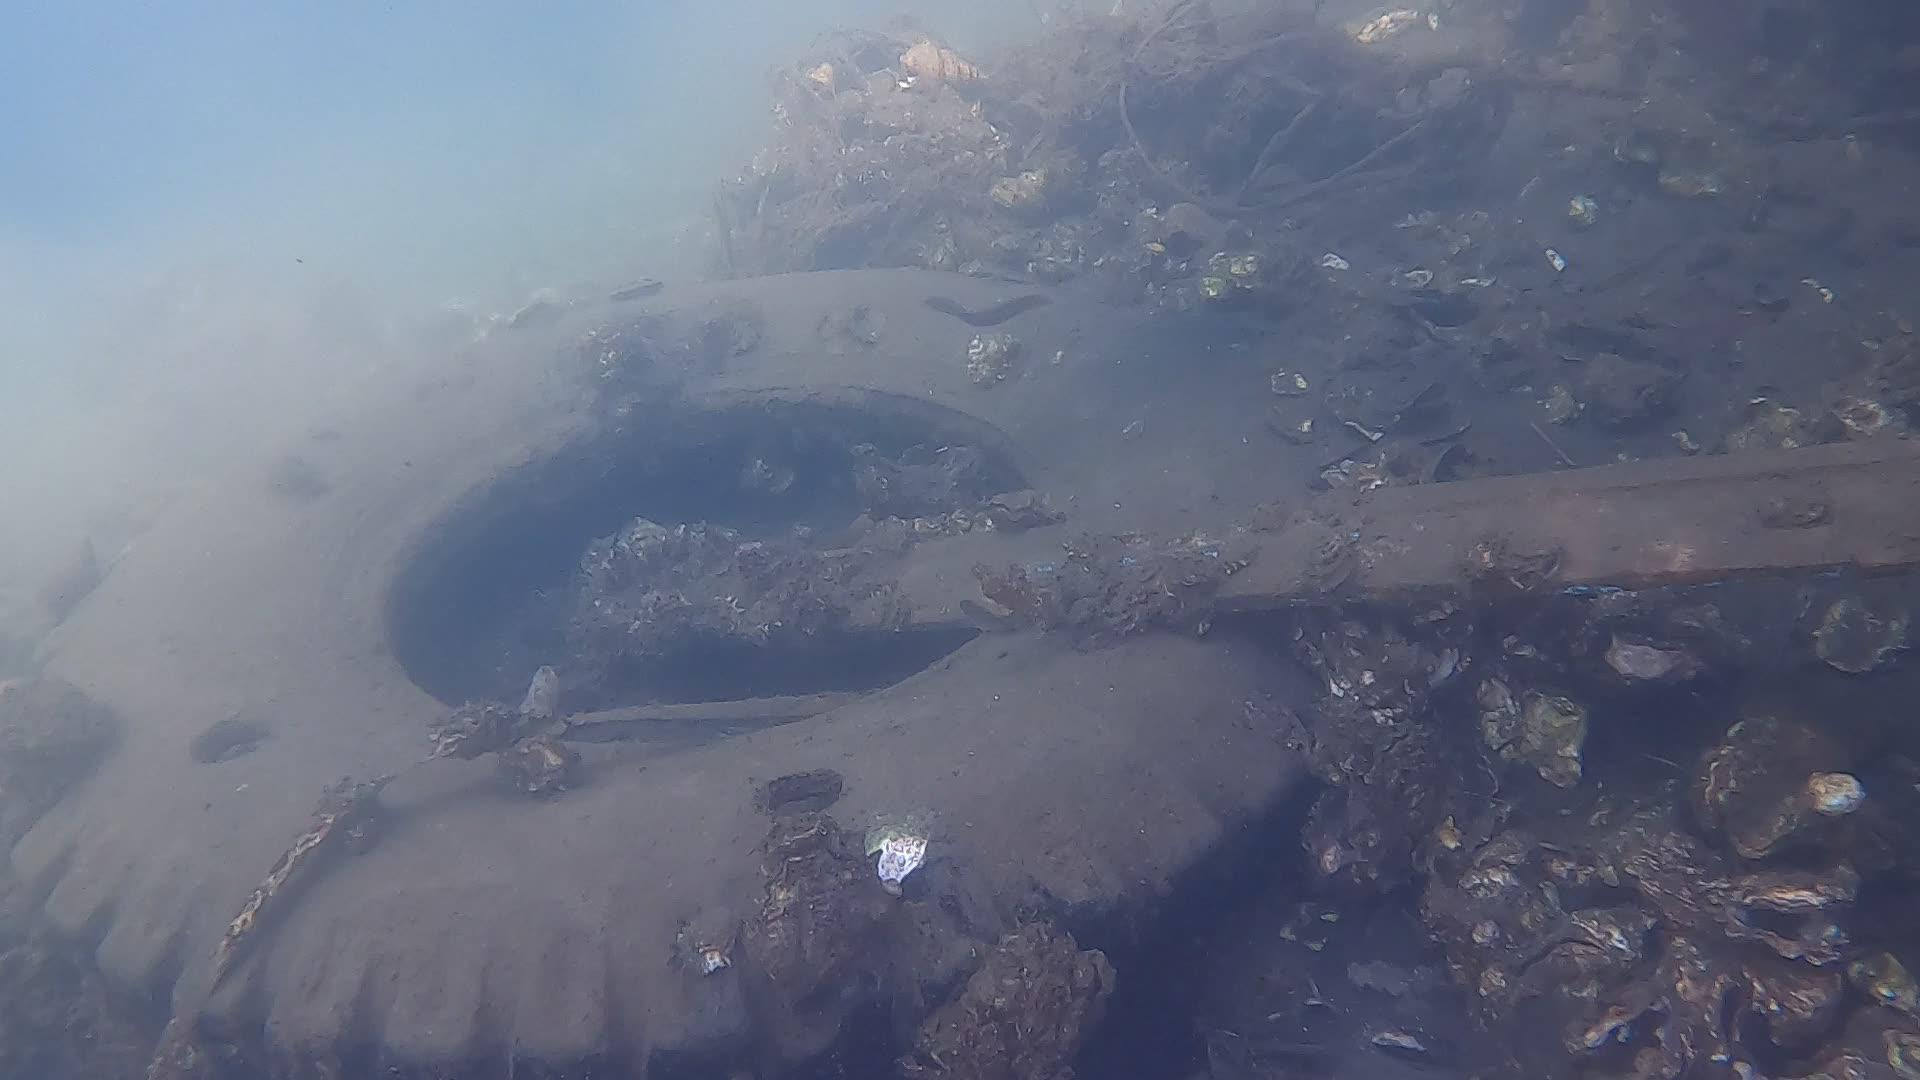tire: (0, 266, 1331, 1080)
wood: (1018, 436, 1920, 636)
